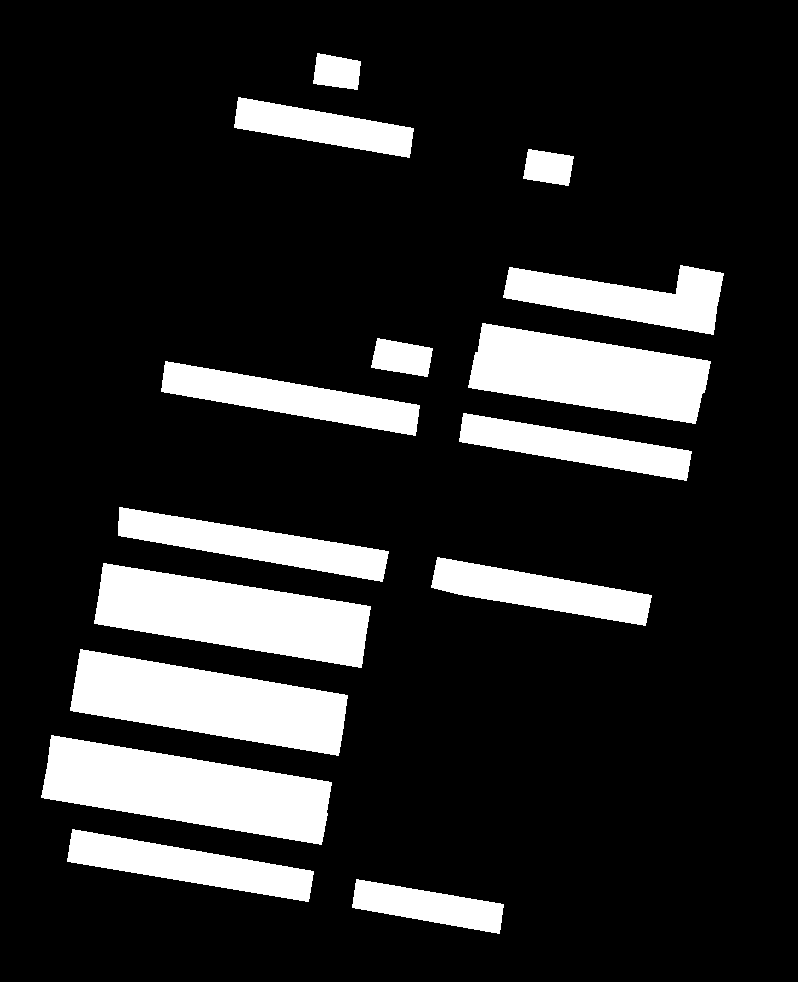parkingspot: (41, 766, 327, 844), (47, 735, 331, 813), (70, 679, 343, 755), (75, 649, 347, 724), (94, 593, 365, 667), (118, 507, 388, 581), (99, 563, 370, 636), (161, 361, 419, 435), (67, 829, 313, 901), (468, 352, 702, 423), (477, 323, 710, 392), (459, 413, 691, 480), (431, 557, 651, 625), (503, 267, 717, 334), (234, 97, 413, 157), (352, 879, 503, 933), (371, 338, 432, 376), (675, 265, 723, 304), (523, 149, 573, 185), (313, 53, 360, 89)
